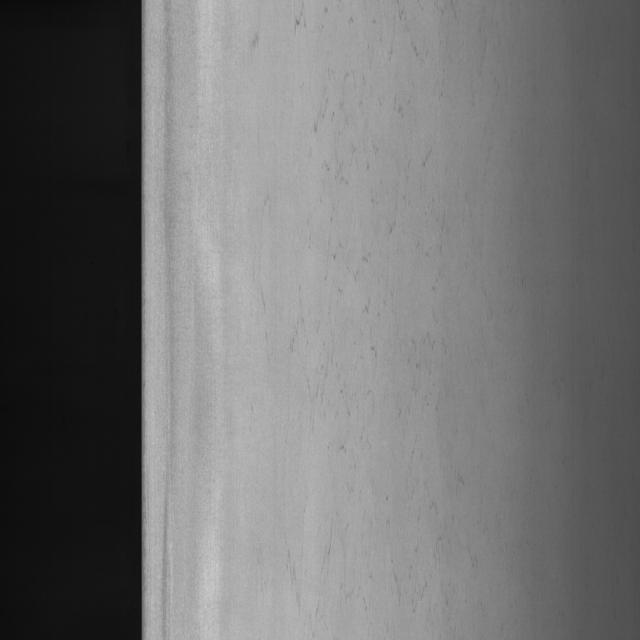inclusion: (273, 44, 434, 570)
